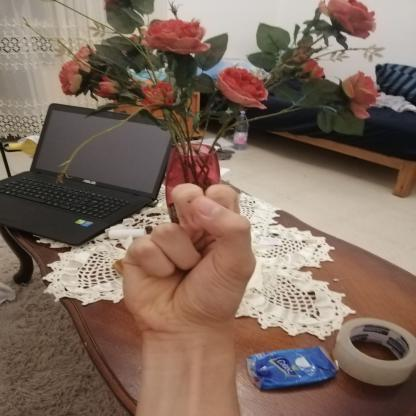QAAF: (106, 173, 269, 343)
